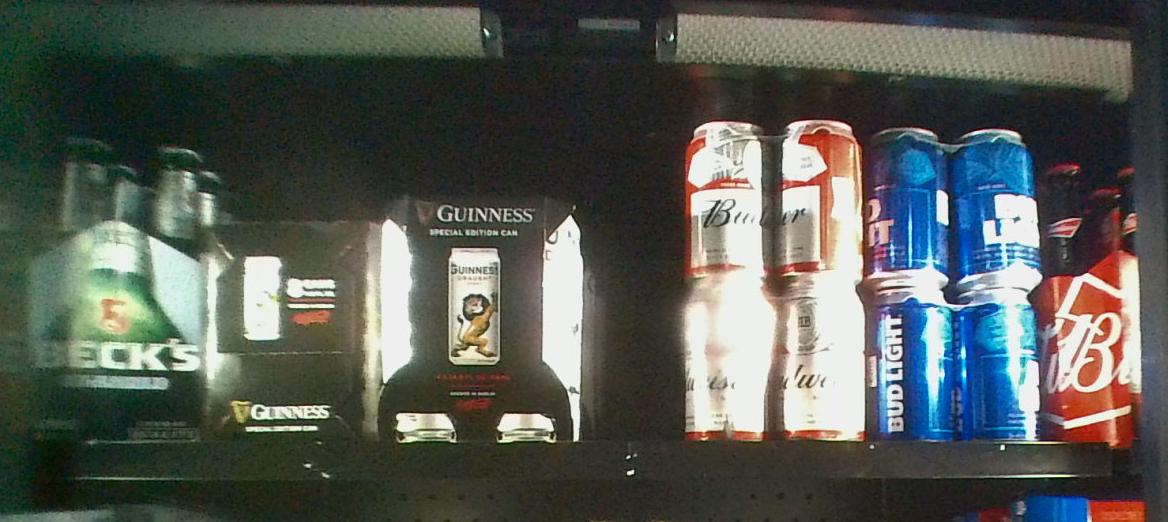bottle: (681, 121, 868, 442), (872, 126, 1049, 443), (33, 138, 202, 439), (384, 192, 580, 445), (203, 221, 387, 449)
